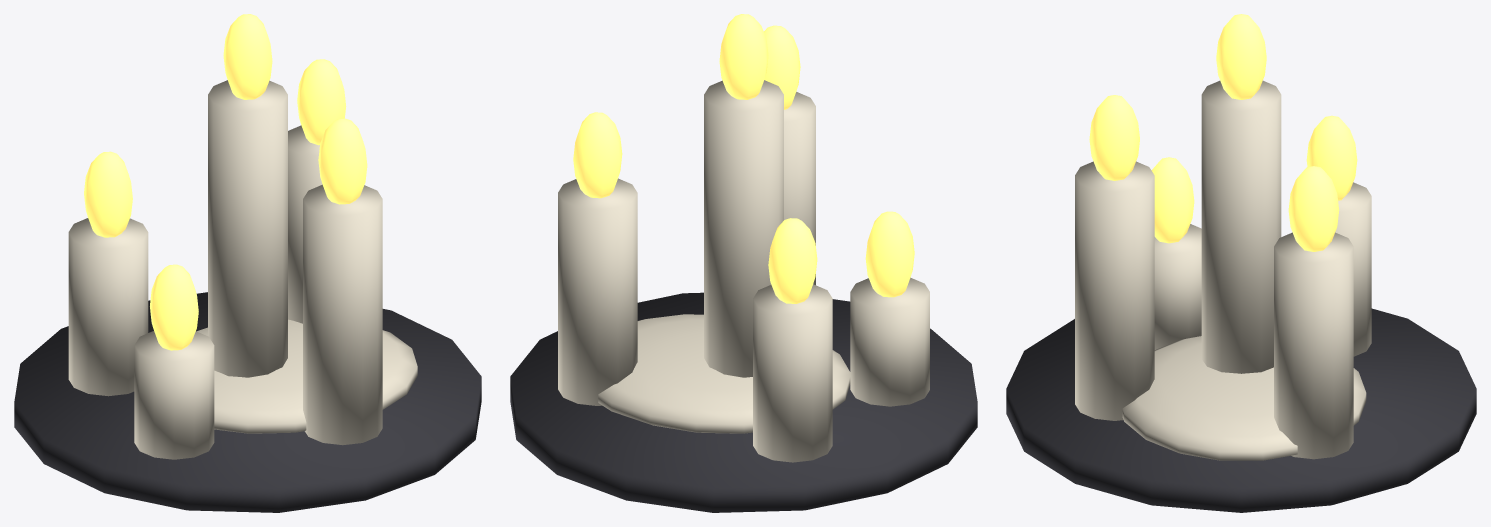
The model's file is candle_cluster.glb.
3 renders of one model, left to right at view 1: azimuth 30°, elevation 25°; view 2: azimuth 150°, elevation 25°; view 3: azimuth 270°, elevation 25°, orthographic.
Visible parts, largest first — view 1: GD_candle_cluster; view 2: GD_candle_cluster; view 3: GD_candle_cluster.
Boxes of the visible parts, bbox=[...] form: GD_candle_cluster: bbox=[14, 14, 481, 512]; GD_candle_cluster: bbox=[510, 14, 977, 512]; GD_candle_cluster: bbox=[1006, 14, 1476, 512].
Size of the model in its own units: 0.26 by 0.2431 by 0.26.
